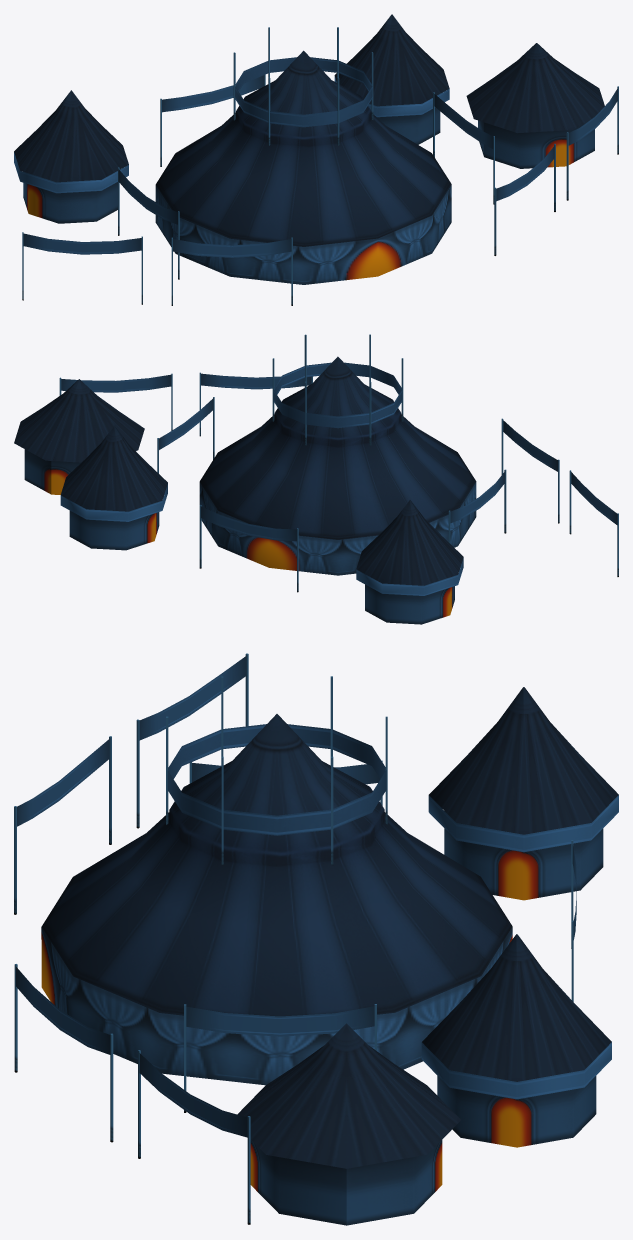
File: Circus.FBX
3 renders of one model, top to bottom at view 1: azimuth 30°, elevation 25°; view 2: azimuth 150°, elevation 25°; view 3: azimuth 270°, elevation 25°, orthographic. The views are drawn at different scales.
Parts seen in each view (by area): view 1: Circus; view 2: Circus; view 3: Circus.
Boxes of the visible parts, x1,y1,x2,y2 form: Circus: (14, 14, 618, 305); Circus: (14, 334, 618, 624); Circus: (14, 653, 618, 1225).
Bounding box in the file's own units: 929 × 251 × 503.
